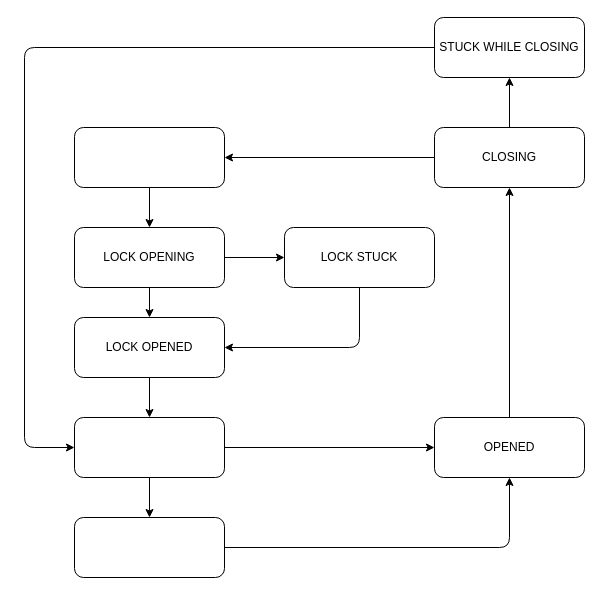
Some shapes in this 602 by 595 pixel diagram are drawn without their labels. Here are the shapes that lost their labels. From the top down, the box of each, then its label:
(74, 126, 224, 188): CLOSED
(74, 416, 224, 478): OPENING
(74, 516, 224, 578): STUCK WHILE OPENING
